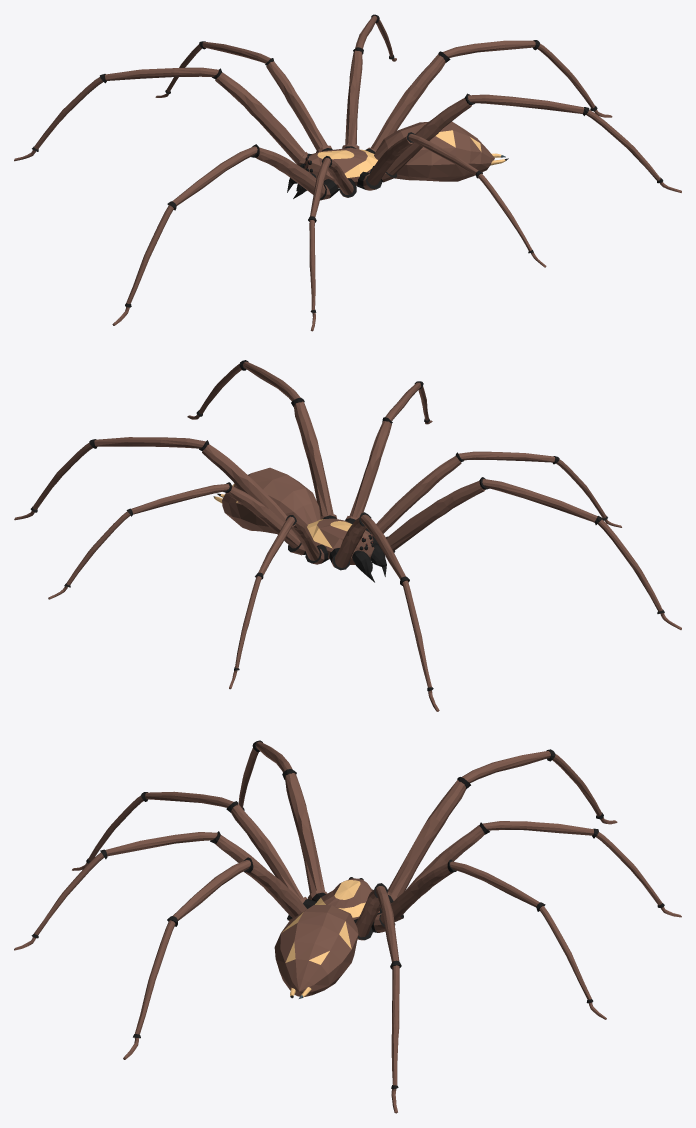
File: Spider.fbx
3 renders of one model, top to bottom at view 1: azimuth 30°, elevation 25°; view 2: azimuth 150°, elevation 25°; view 3: azimuth 270°, elevation 25°, orthographic. The views are drawn at different scales.
Parts seen in each view (by area): view 1: group_423670962, group_513928747, group_1527940484, group_888014332, group_1104609954, group_1101507302, group_1946732356, group_881726422, group_1227176505, group_1914945794, group_635251391, group_82012429 (+10 smaller); view 2: group_423670962, group_1527940484, group_1914945794, group_1104609954, group_1974204301, group_888014332, group_1378341554, group_635251391, group_82012429, group_1946732356, group_2092966720, group_1401908631 (+10 smaller); view 3: group_423670962, group_513928747, group_1914945794, group_1974204301, group_1527940484, group_1104609954, group_1946732356, group_643759245, group_450192717, group_881726422, group_1227176505, group_1101507302 (+9 smaller).
Part boxes in pixels (bbox=[...]): group_423670962: bbox=[374, 121, 508, 181]; group_513928747: bbox=[215, 72, 305, 164]; group_1527940484: bbox=[287, 147, 377, 198]; group_888014332: bbox=[371, 54, 445, 150]; group_1104609954: bbox=[386, 98, 471, 175]; group_1101507302: bbox=[266, 61, 327, 150]; group_1946732356: bbox=[345, 50, 362, 144]; group_881726422: bbox=[468, 94, 584, 113]; group_1227176505: bbox=[105, 67, 218, 80]; group_1914945794: bbox=[255, 147, 325, 197]; group_635251391: bbox=[172, 146, 257, 205]; group_82012429: bbox=[442, 40, 535, 57]; group_423670962: bbox=[213, 467, 321, 533]; group_1527940484: bbox=[307, 518, 386, 582]; group_1914945794: bbox=[387, 481, 485, 551]; group_1104609954: bbox=[294, 401, 333, 516]; group_1974204301: bbox=[376, 456, 461, 533]; group_888014332: bbox=[202, 444, 287, 521]; group_1378341554: bbox=[349, 421, 391, 518]; group_635251391: bbox=[482, 479, 597, 522]; group_82012429: bbox=[94, 437, 205, 448]; group_1946732356: bbox=[226, 486, 300, 548]; group_2092966720: bbox=[131, 484, 229, 514]; group_1401908631: bbox=[458, 451, 555, 462]; group_423670962: bbox=[274, 905, 358, 998]; group_513928747: bbox=[388, 780, 466, 897]; group_1914945794: bbox=[285, 773, 324, 893]; group_1974204301: bbox=[231, 804, 303, 899]; group_1527940484: bbox=[315, 877, 379, 919]; group_1104609954: bbox=[243, 862, 306, 918]; group_1946732356: bbox=[380, 863, 453, 923]; group_643759245: bbox=[105, 832, 217, 856]; group_450192717: bbox=[483, 821, 593, 835]; group_881726422: bbox=[173, 860, 250, 920]; group_1227176505: bbox=[461, 751, 550, 782]; group_1101507302: bbox=[402, 825, 484, 914].
Size of the model in its own units: 278 by 65.17 by 246.
